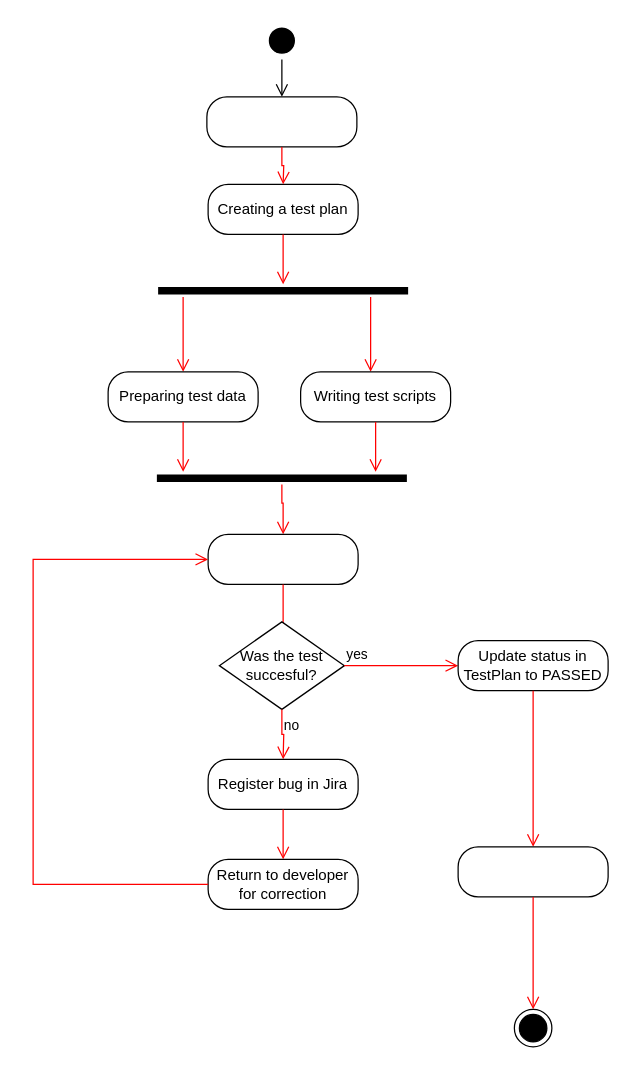
The diagram is 630 pixels wide and 1069 high, and some of its shapes have lost their labels. Each missing label, with the centre of its shape:
Creating a test report: the point at 532,871
Runnig tests: the point at 282,558
Sprint and story requirements analysis: the point at 281,121
